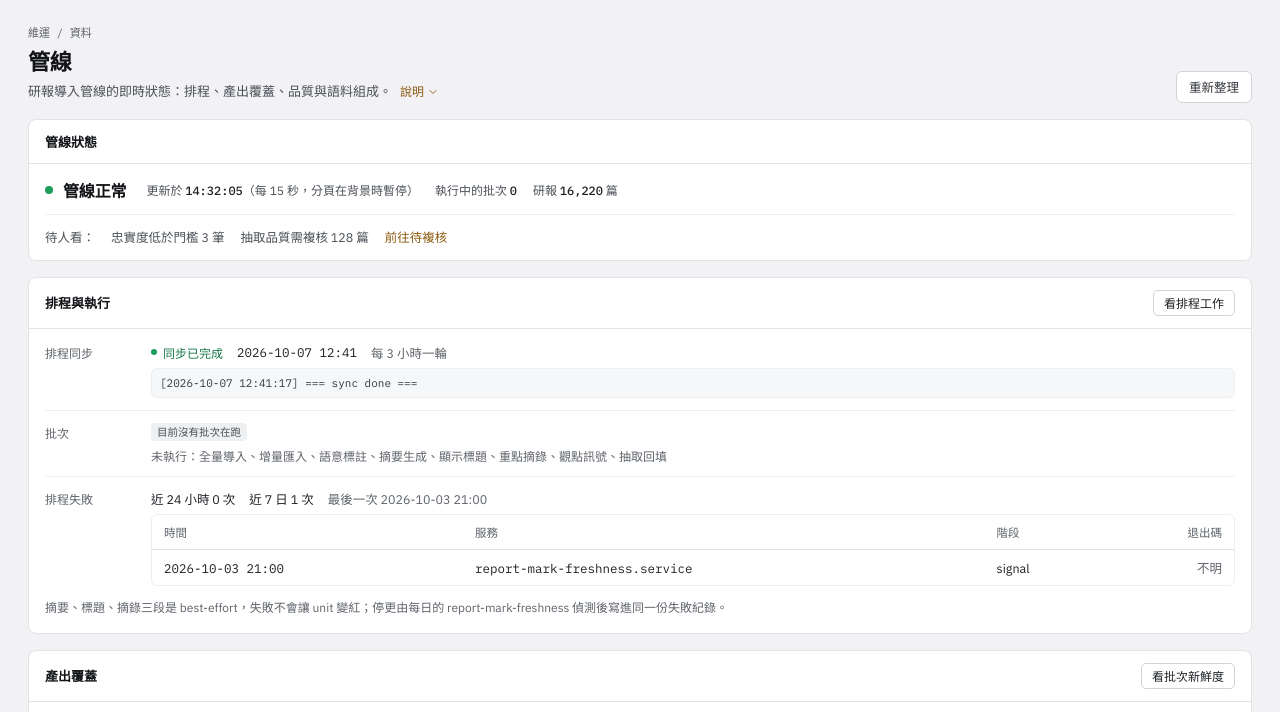
Test: 重新整理失敗時畫面保留上一筆，並標示不是最新
The width and height of the screenshot is (1280, 712).
Expected: the text "管線正常" is shown, [63,178,126,202]
Click the button "重新整理" at (1214, 87), box [1176,71,1252,103]
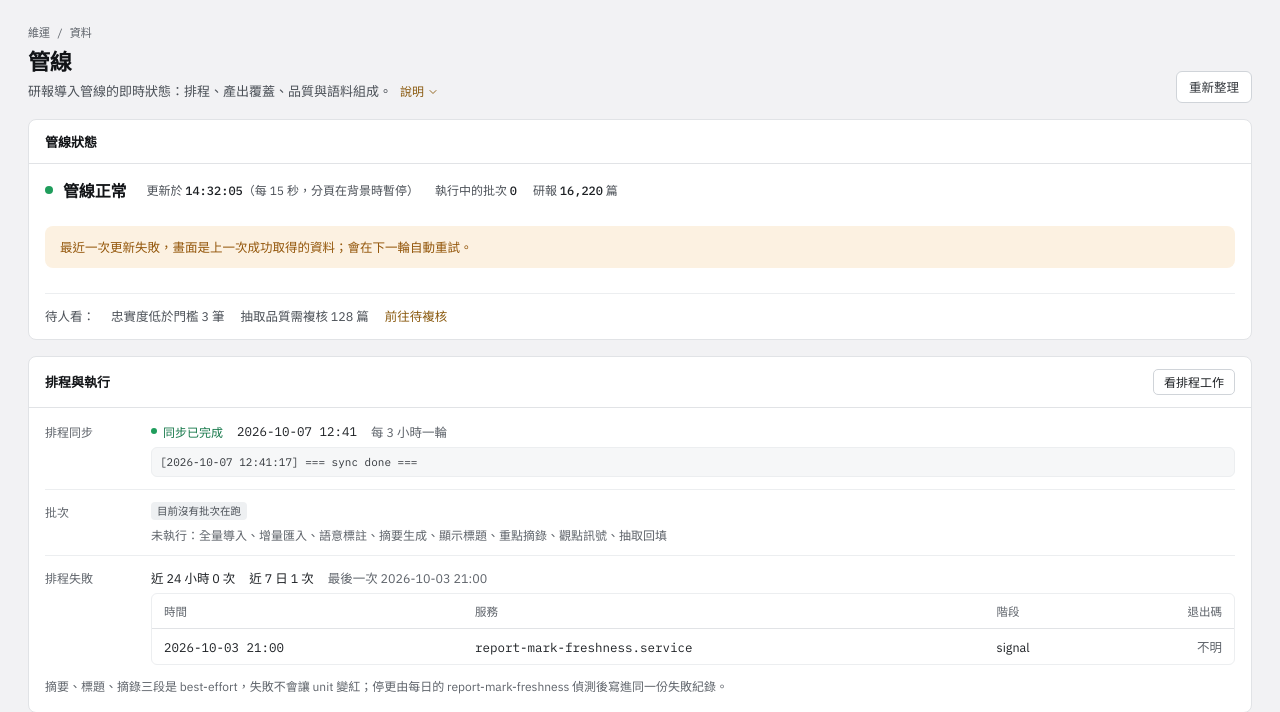
Expected: the text "管線正常" is shown, [63,178,126,202]
Now the text "最近一次更新失敗，畫面是上一次成功取得的資料；會在下一輪自動重試。" is shown, box [45,226,1235,268]
